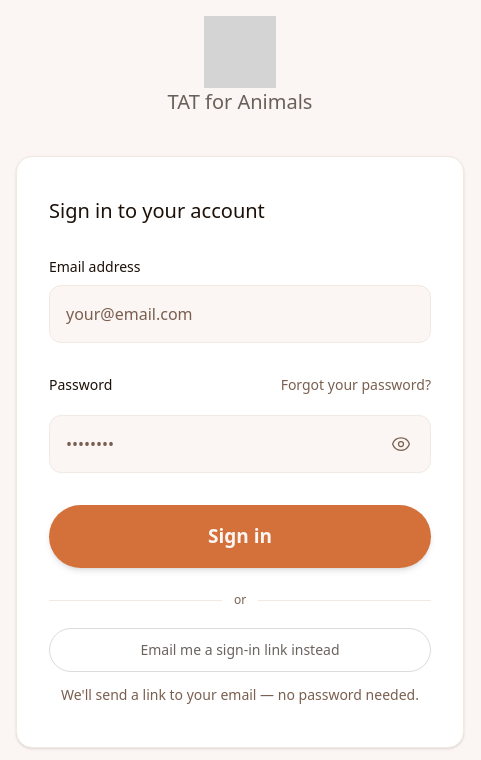
Test: LoginClient — passwordless sign-in link › asks for an email first when the field is empty
The image size is (481, 760).
Click the button "Email me a sign-in link instead": (240, 650) [49,628,431,672]
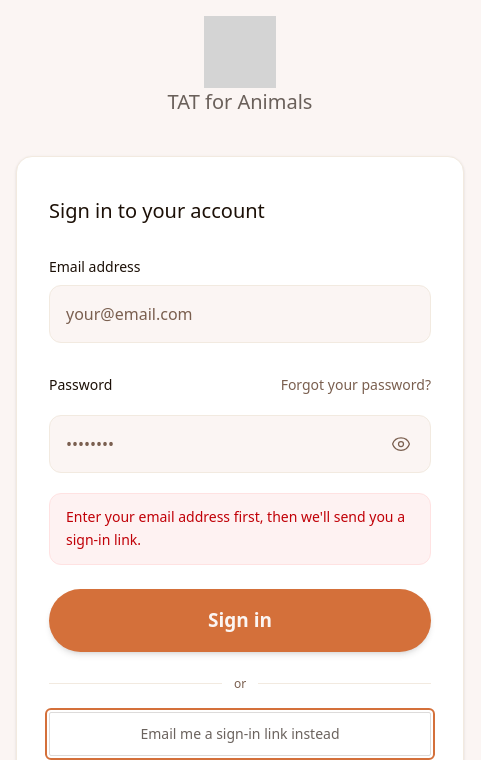
Now the text "Enter your email address first" is shown, box [66,507,405,549]
